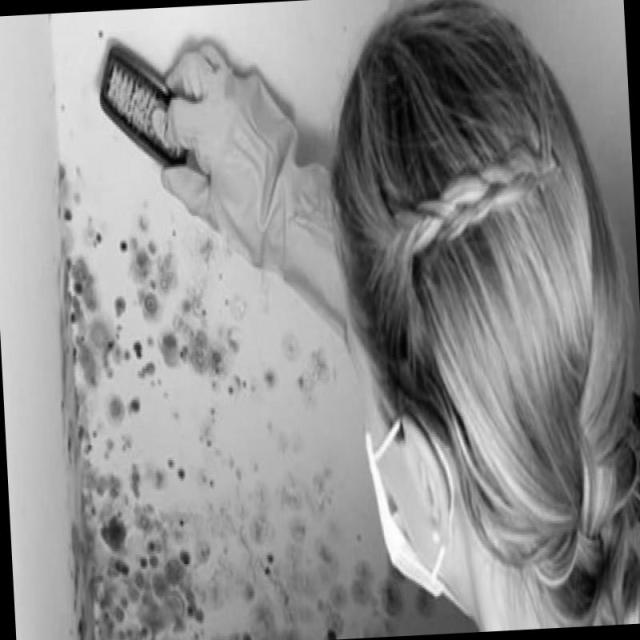stain marks: (23, 166, 347, 638)
